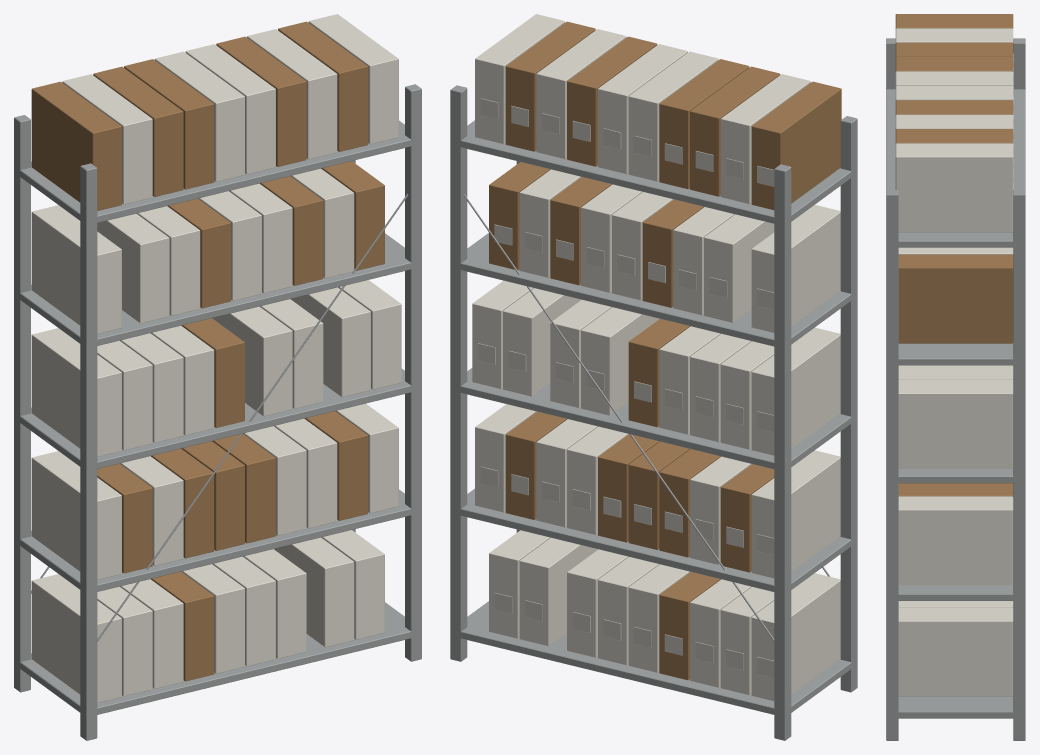
Rendered from prop_shelving_archive.glb.
3 renders of one model, left to right at view 1: azimuth 30°, elevation 25°; view 2: azimuth 150°, elevation 25°; view 3: azimuth 270°, elevation 25°, orthographic. The views are drawn at different scales.
Parts seen in each view (by area): view 1: Shelving; view 2: Shelving; view 3: Shelving.
Boxes of the visible parts, left/top/right/bottom form: Shelving: left=14, top=14, right=421, bottom=740; Shelving: left=450, top=14, right=857, bottom=740; Shelving: left=886, top=14, right=1025, bottom=740.
Size of what is drawn, in the model's own units: 1.2 by 2.06 by 0.45.
